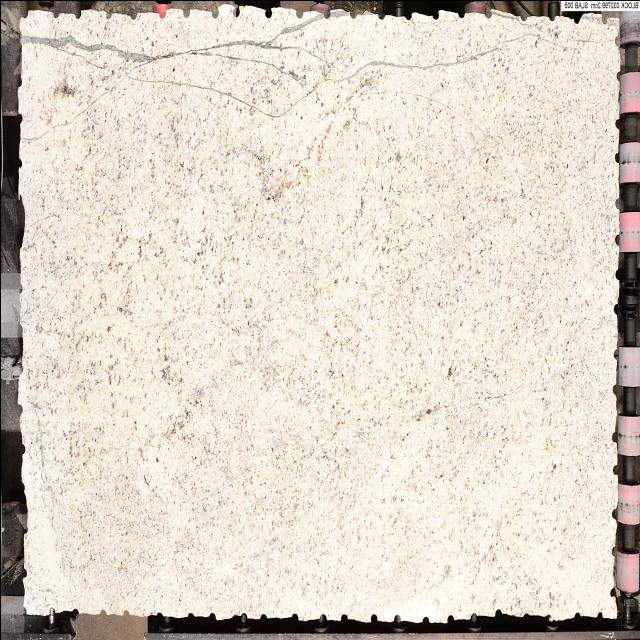chapa: (16, 8, 622, 623)
veio: (442, 608, 458, 626), (14, 396, 24, 421), (608, 503, 620, 522), (390, 607, 402, 625), (116, 605, 130, 620), (178, 6, 192, 19), (18, 351, 25, 377), (610, 426, 620, 444), (493, 604, 504, 620), (421, 612, 434, 625), (481, 8, 493, 22), (338, 609, 350, 623), (316, 608, 328, 622), (98, 606, 110, 620), (610, 298, 620, 314), (610, 380, 620, 396), (610, 461, 620, 477), (368, 610, 378, 626), (292, 6, 303, 20), (428, 10, 440, 22), (230, 5, 242, 17), (207, 7, 219, 19), (597, 14, 607, 28), (156, 8, 166, 22), (125, 11, 139, 21), (70, 8, 80, 22), (19, 436, 26, 456), (290, 609, 300, 623), (470, 609, 478, 626), (237, 610, 248, 622), (101, 10, 114, 20), (258, 611, 268, 624), (184, 610, 197, 620), (610, 150, 618, 166), (612, 344, 620, 360), (610, 542, 618, 558), (607, 582, 615, 598), (614, 68, 623, 82), (455, 8, 465, 20), (320, 8, 330, 20), (261, 6, 271, 18), (50, 10, 59, 22), (614, 190, 620, 208), (208, 610, 217, 622), (614, 114, 622, 127), (614, 228, 620, 245), (570, 16, 580, 26), (545, 12, 555, 22), (346, 9, 356, 19), (516, 14, 527, 23), (17, 110, 23, 126), (595, 609, 603, 621), (612, 36, 618, 51), (401, 14, 412, 22), (614, 264, 620, 278), (374, 13, 384, 21), (17, 153, 22, 169), (573, 610, 581, 620)
